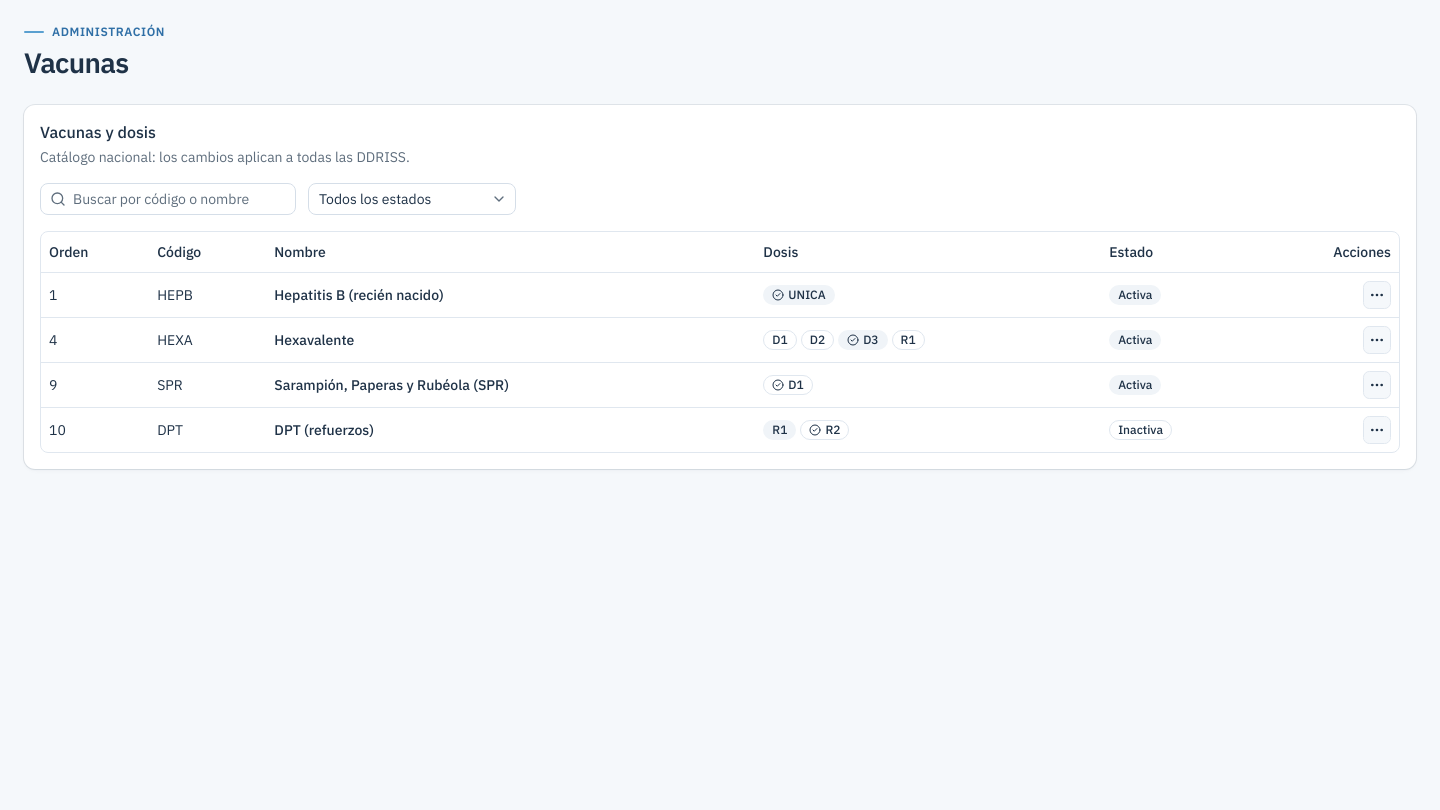
Scenario: acciones › reactivar una vacuna inactiva la deja "Activa"
Press Enter in the button named "Acciones de DPT", box [1363,416,1391,444]
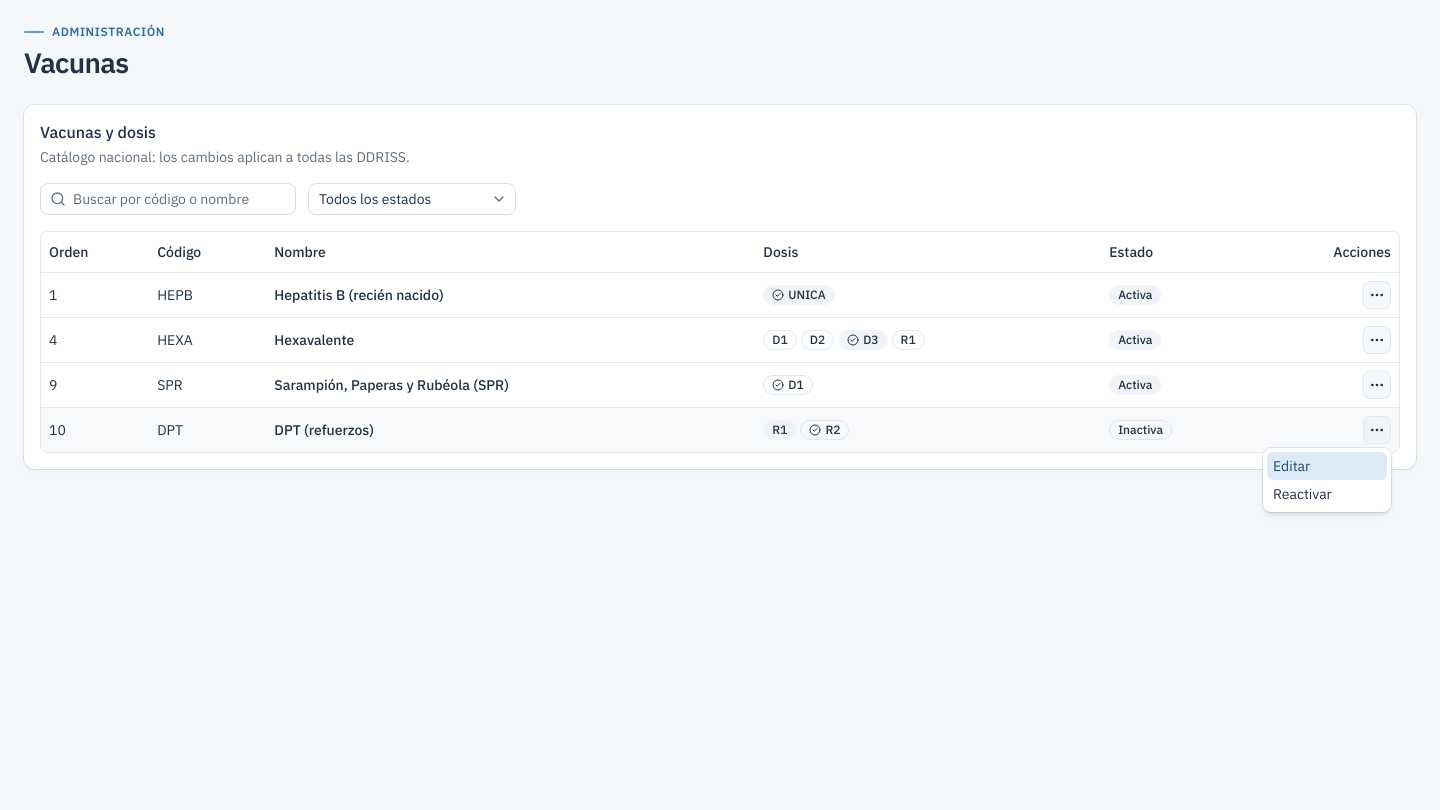
Click the menu item "Reactivar": (1302, 494) [1273,485,1332,503]
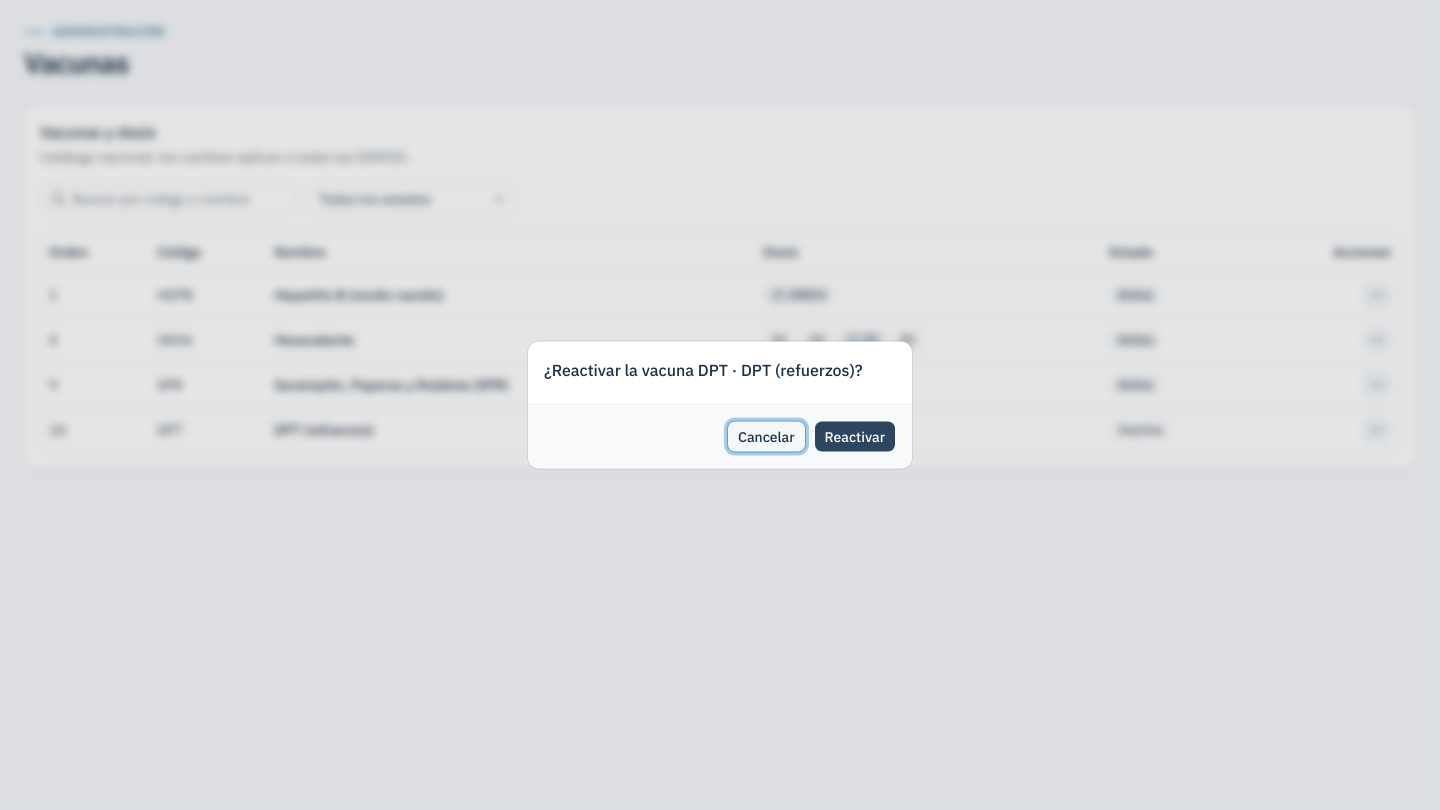
Check: the heading "¿Reactivar la vacuna DPT · DPT (refuerzos)?" is shown, box [544,358,863,382]
Click the button "Reactivar": (855, 436) [814,420,896,452]
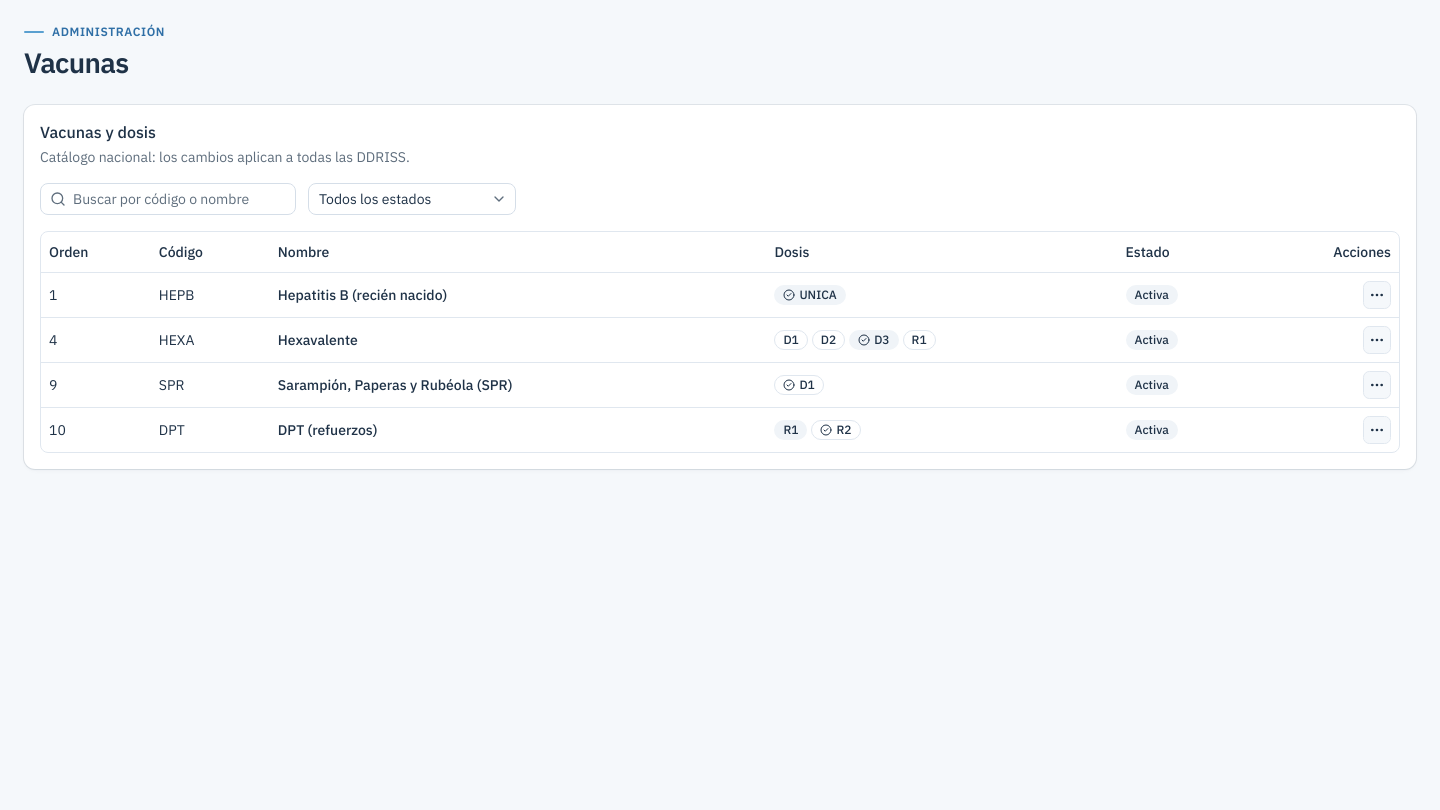
Check: the cell "Activa" in the row of "10" is shown, box [1134,422,1169,437]
